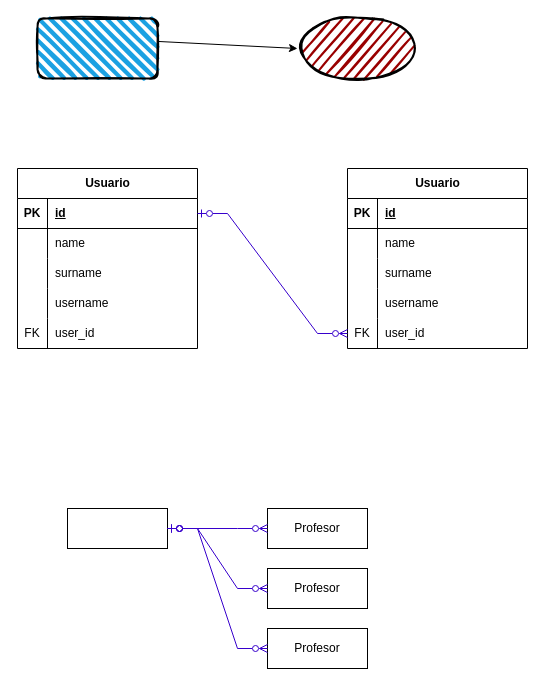
The diagram is 545 pixels wide and 686 high, and some of its shapes have lost their labels. The box of each missing label's shape, as (x1, y1, x2, y2) in pixels:
El modelo OSI: (36, 17, 158, 79)
User: (66, 508, 168, 548)
